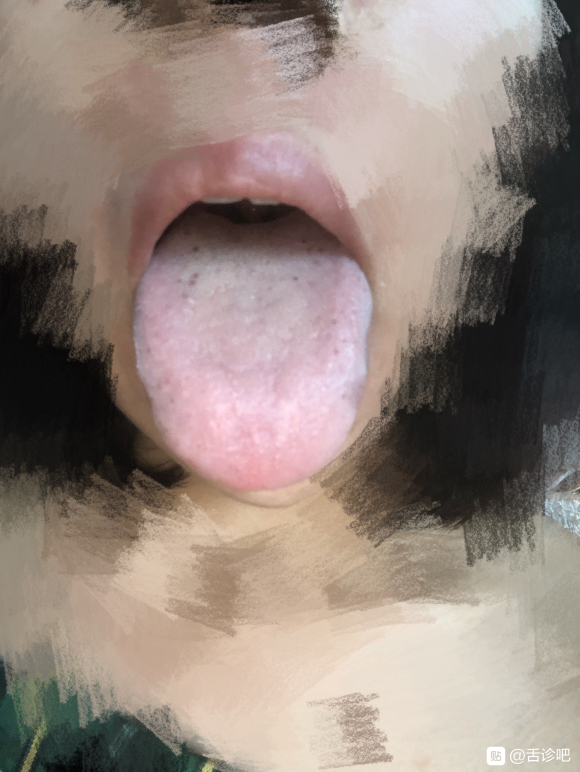baitaishe: (133, 202, 372, 492)
pangdashe: (133, 202, 372, 492)
